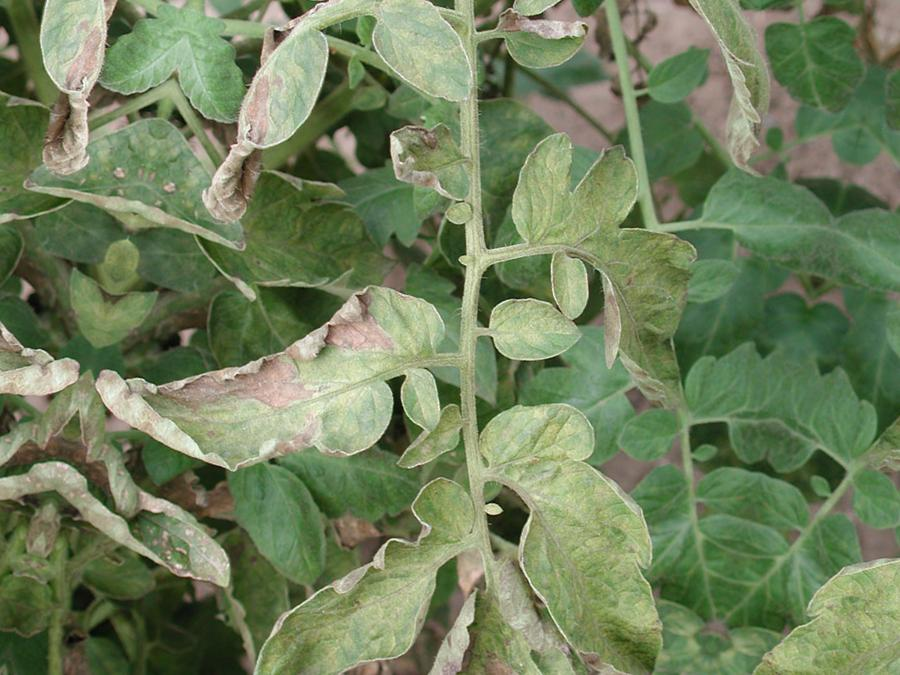Tomato mold leaf: (77, 211, 457, 523), (417, 379, 727, 675), (221, 433, 488, 675), (185, 0, 403, 244), (353, 0, 505, 120), (474, 273, 593, 380), (373, 109, 491, 212), (532, 231, 608, 328), (507, 0, 618, 37)
